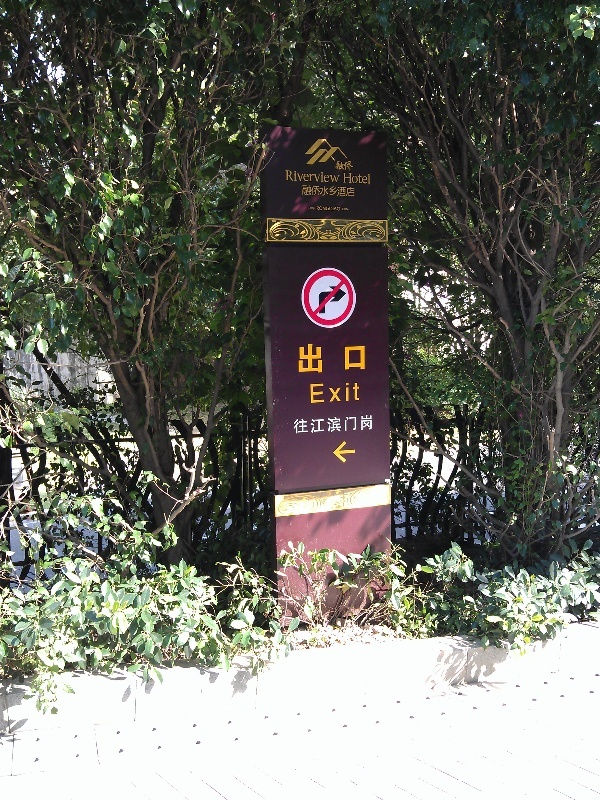text: (305, 343, 320, 374), (321, 343, 336, 374), (337, 343, 352, 374), (353, 343, 366, 374), (321, 382, 336, 404), (337, 382, 352, 404), (305, 414, 320, 435), (321, 414, 336, 435), (337, 414, 352, 435), (353, 414, 368, 435), (309, 382, 320, 404), (293, 414, 304, 435), (289, 170, 304, 184), (305, 170, 320, 184), (321, 170, 336, 184), (305, 185, 320, 198), (321, 185, 336, 198), (337, 185, 352, 198), (353, 172, 368, 185), (298, 343, 304, 374), (337, 160, 352, 172), (353, 382, 361, 404), (343, 172, 352, 185), (369, 414, 374, 435), (321, 206, 336, 212), (285, 170, 288, 184), (337, 170, 340, 184), (353, 185, 356, 198), (369, 172, 372, 185), (302, 185, 304, 198), (316, 206, 320, 212), (337, 206, 341, 212), (353, 160, 354, 172)
